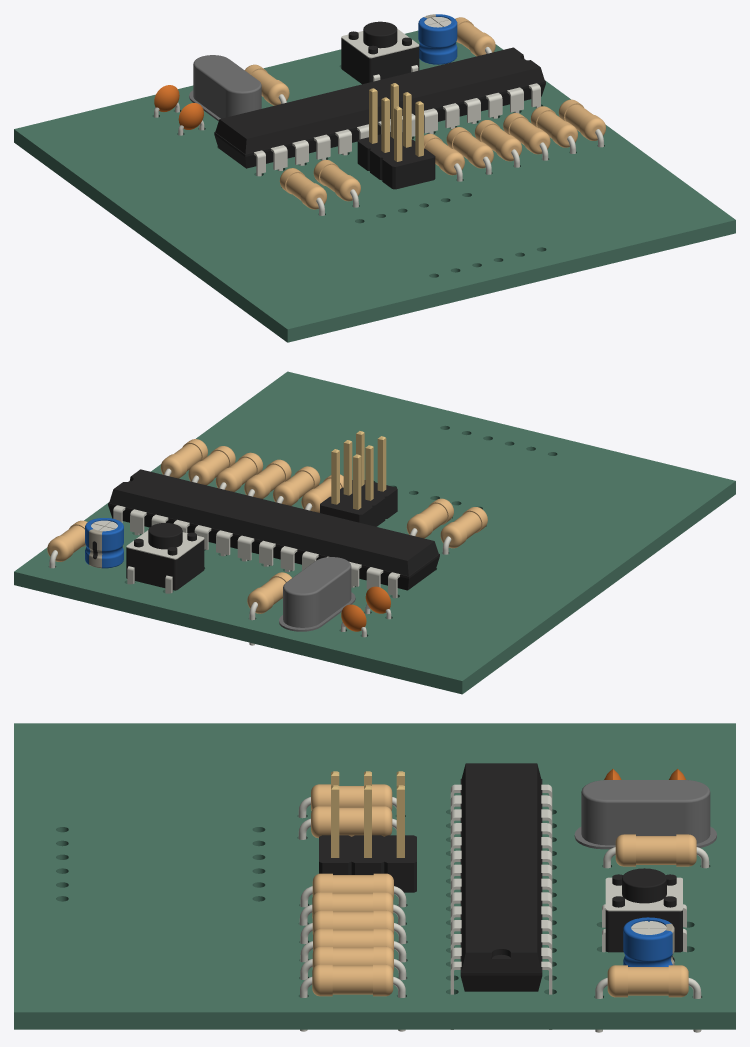
The model's file is 7_segment_display.glb.
The picture shows the model from 3 angles, top to bottom: view 1: azimuth 30°, elevation 25°; view 2: azimuth 150°, elevation 25°; view 3: azimuth 270°, elevation 25°; orthographic projection. The views are drawn at different scales.
Visible parts, largest first — view 1: =>[0:1:1:10], U1, Resume, Lost?Click here â, Y1, C3, R8, R3, R10, R7, R6, R9 (+6 smaller); view 2: =>[0:1:1:10], U1, Resume, Lost?Click here â, Y1, C3, R3, R8, R7, R6, R10, R5 (+6 smaller); view 3: =>[0:1:1:10], U1, Y1, Resume, Lost?Click here â, R1, R9, R2, C3, R8, R4, R6 (+4 smaller).
Part boxes in pixels (x1,y1,x2,y2): =>[0:1:1:10]: (14, 30, 735, 342); U1: (214, 47, 545, 176); Resume: (357, 83, 435, 189); Lost?Click here â: (341, 21, 419, 84); Y1: (189, 55, 261, 120); C3: (418, 14, 457, 64); R8: (313, 159, 360, 207); R3: (279, 168, 326, 215); R10: (503, 113, 550, 160); R7: (446, 127, 493, 174); R6: (474, 120, 521, 167); R9: (558, 99, 605, 147); =>[0:1:1:10]: (14, 371, 735, 694); U1: (108, 469, 439, 598); Resume: (320, 431, 397, 526); Lost?Click here â: (126, 523, 204, 593); Y1: (279, 557, 355, 631); C3: (85, 518, 123, 568); R3: (440, 507, 487, 554); R8: (406, 498, 453, 538); R7: (273, 466, 320, 505); R6: (244, 459, 291, 498); R10: (215, 452, 263, 491); R5: (188, 446, 235, 485); =>[0:1:1:10]: (14, 723, 735, 1029); U1: (450, 763, 552, 1029); Y1: (574, 780, 716, 849); Resume: (319, 771, 416, 892); Lost?Click here â: (602, 868, 686, 952); R1: (595, 965, 701, 1032); R9: (300, 964, 405, 1031); R2: (603, 834, 709, 868); C3: (623, 917, 674, 966); R8: (298, 806, 396, 839); R4: (300, 873, 406, 907); R6: (300, 910, 406, 944).
Size of the model in its own units: 0.053 by 0.012 by 0.056.
